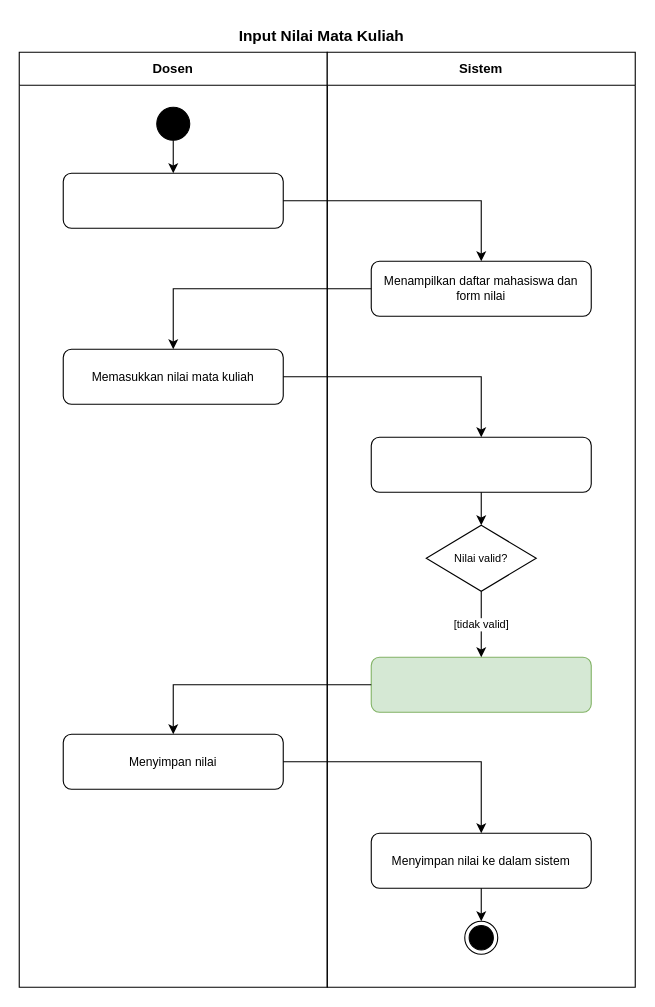
The diagram is 655 pixels wide and 1007 high, and some of its shapes have lost their labels. Each missing label, with the centre of its shape:
"Memeriksa rentang nilai" goes at point (480, 464).
"Memilih mata kuliah yang diampu" goes at point (172, 200).
"Menolak input dan meminta perbaikan nilai" goes at point (480, 684).
